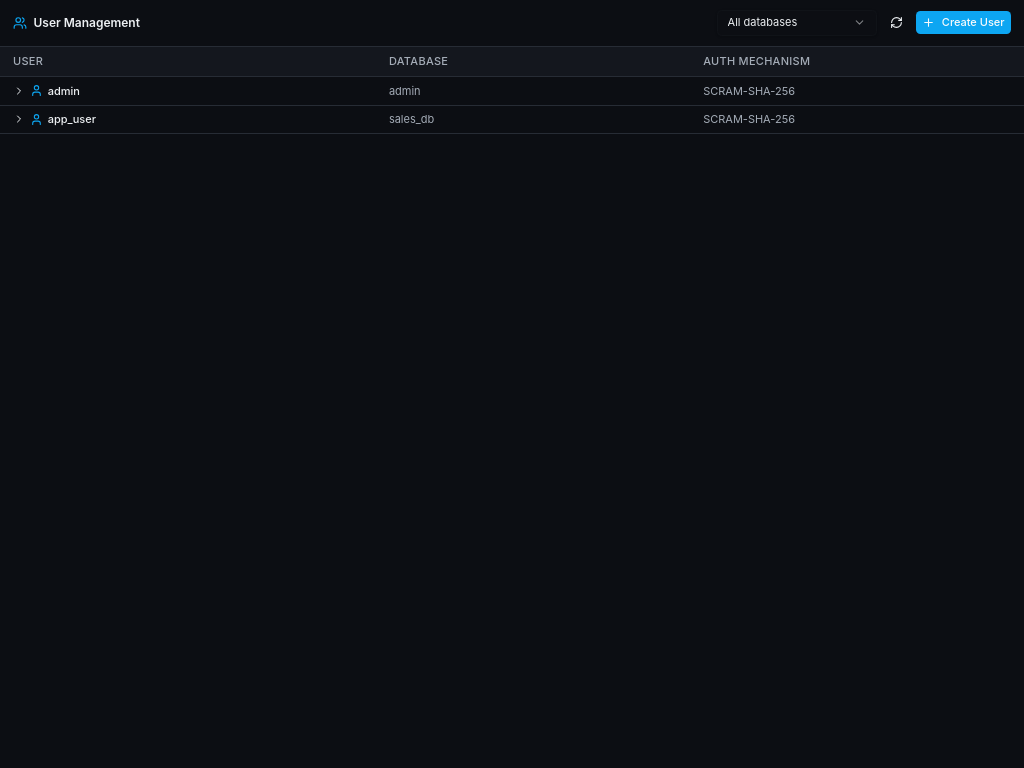
it: UserManagementView (user & role management) › opens the editor via right click → Edit User
Right-click the element with test id "user-row-sales_db.app_user" at (404, 119), box [13,112,795,126]
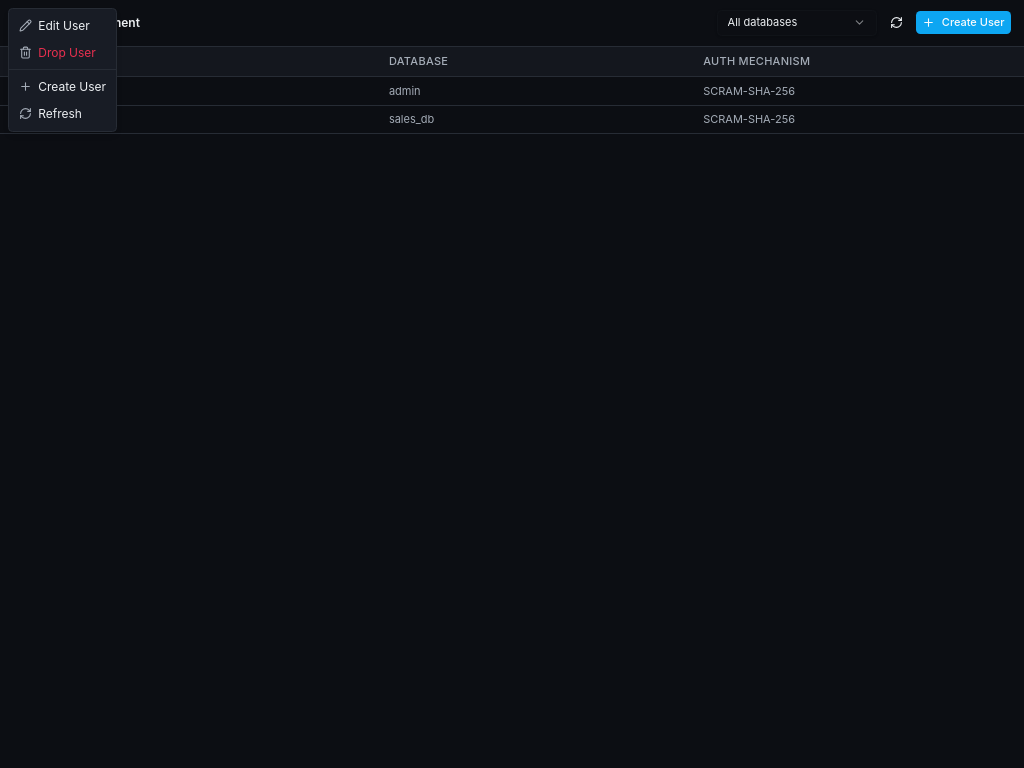
Click the menu item "Edit User" at (62, 26), box [12,12,113,39]
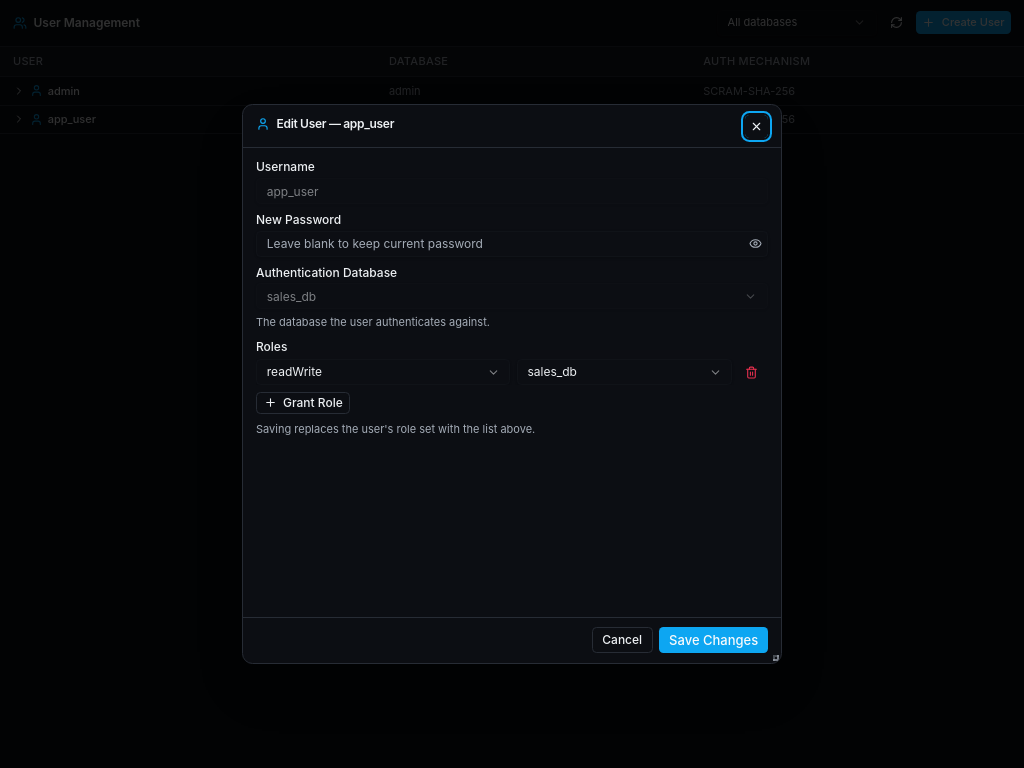
Check: the dialog with test id "user-editor-modal" is shown, box [242,104,782,664]
Check: the field with test id "user-name-input" holds "app_user", box [256,178,768,204]
